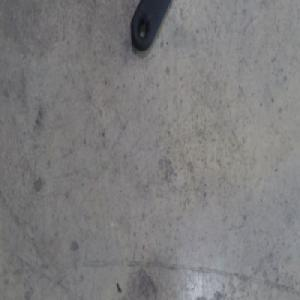AdjustableWrench: (130, 0, 168, 52)
